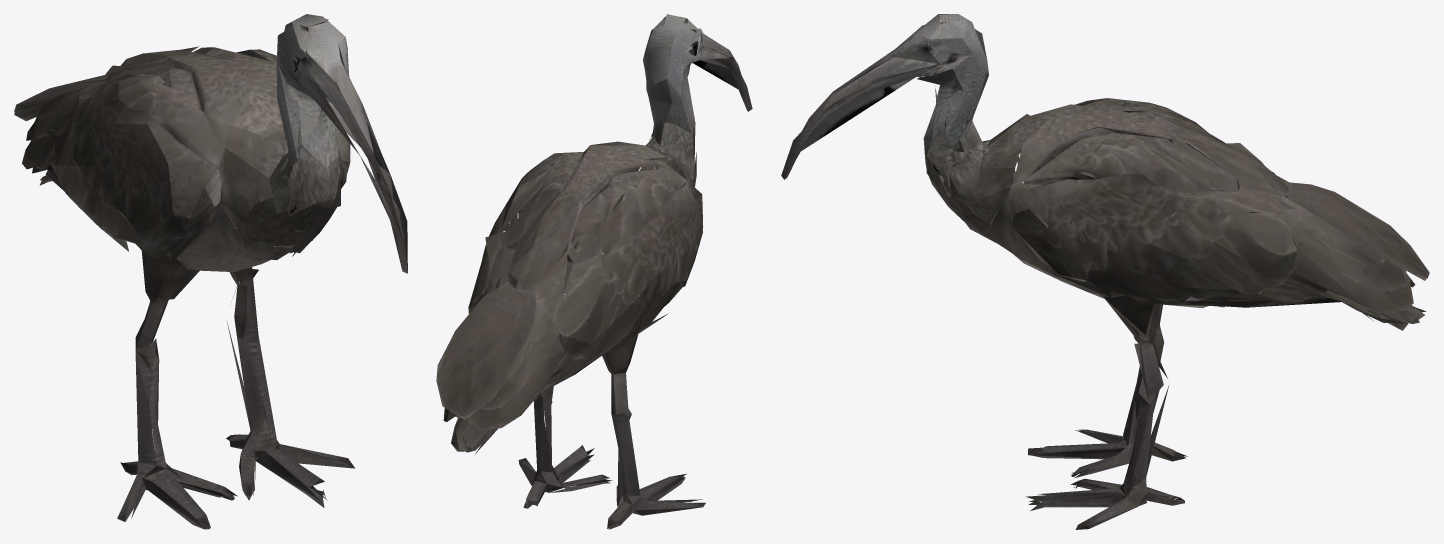
The model's file is giant-ibis.glb.
The picture shows the model from 3 angles, left to right: view 1: azimuth 30°, elevation 25°; view 2: azimuth 150°, elevation 25°; view 3: azimuth 270°, elevation 25°; orthographic projection. The views are drawn at different scales.
Visible parts, largest first — view 1: output_unwrapped; view 2: output_unwrapped; view 3: output_unwrapped.
Part boxes in pixels (left/top/right/bottom): output_unwrapped: left=14, top=14, right=407, bottom=529; output_unwrapped: left=436, top=14, right=752, bottom=529; output_unwrapped: left=781, top=14, right=1429, bottom=529.
Bounding box in the file's own units: 0.4566 × 1.01 × 1.27.
1 material, 1 textured.
